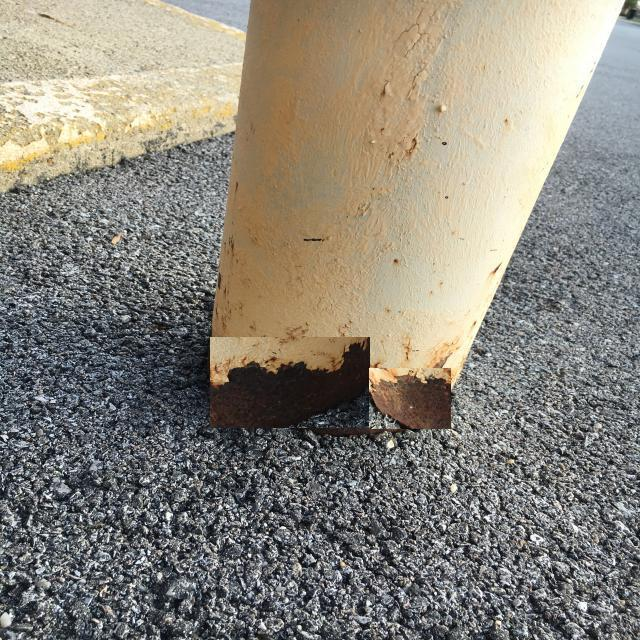Corrosion: (206, 0, 627, 432)
